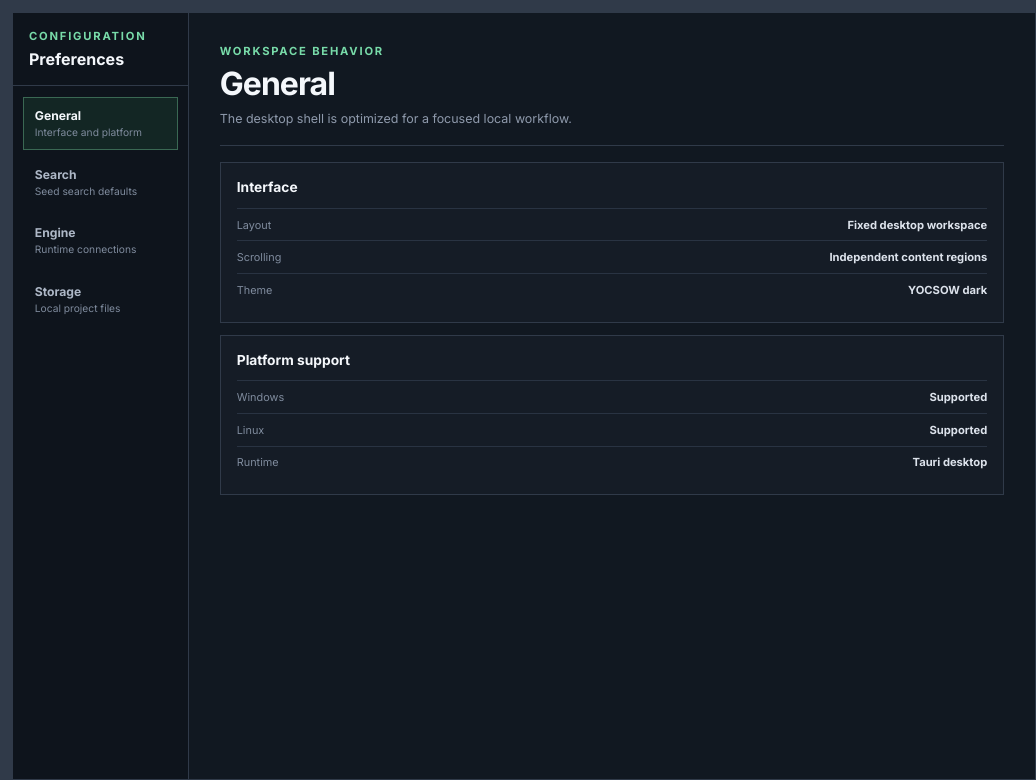
Test case: SettingsWorkspace › updates the shared seed search result limit
The image size is (1036, 780).
Click the tab "Search Seed search defaults" at (100, 182), box [23,155,178,208]
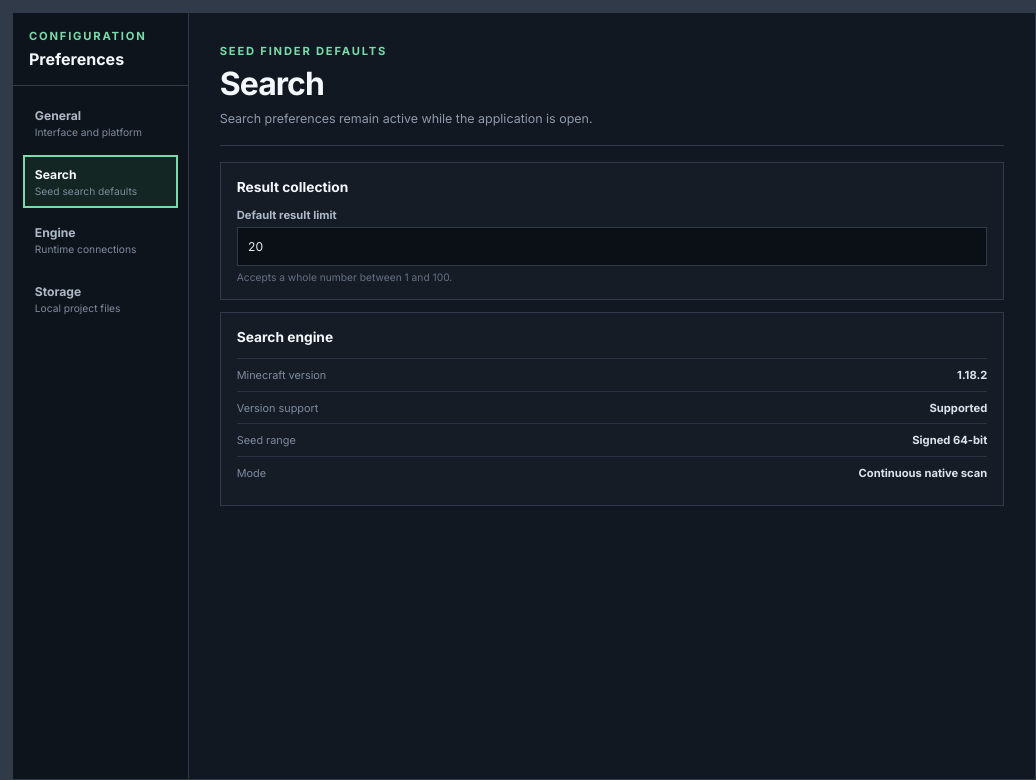
Replace the text in the number field labelled "Default result limit" with "35" at (612, 247), box [237,227,987,266]
(page scrolled)
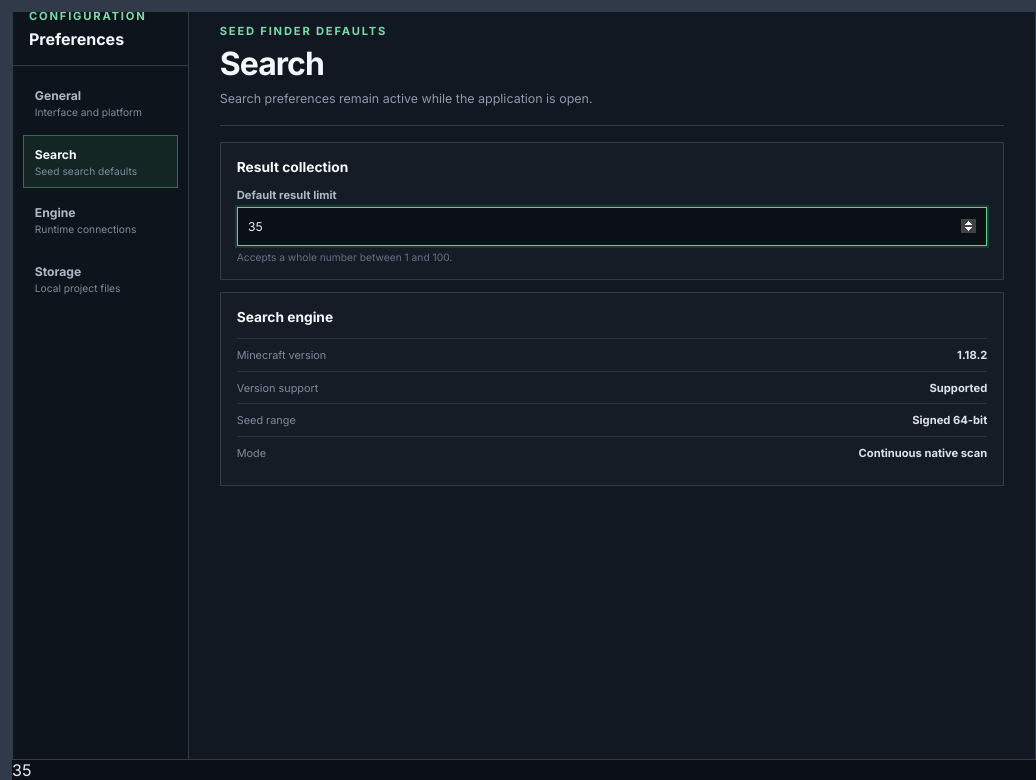
Expected: the text "Supported" is shown, [930,381,987,395]
Now the text "1.18.2" is shown, box [957,348,987,362]
Now the text with test id "result-limit-state" reads "35", box [12,760,31,779]
